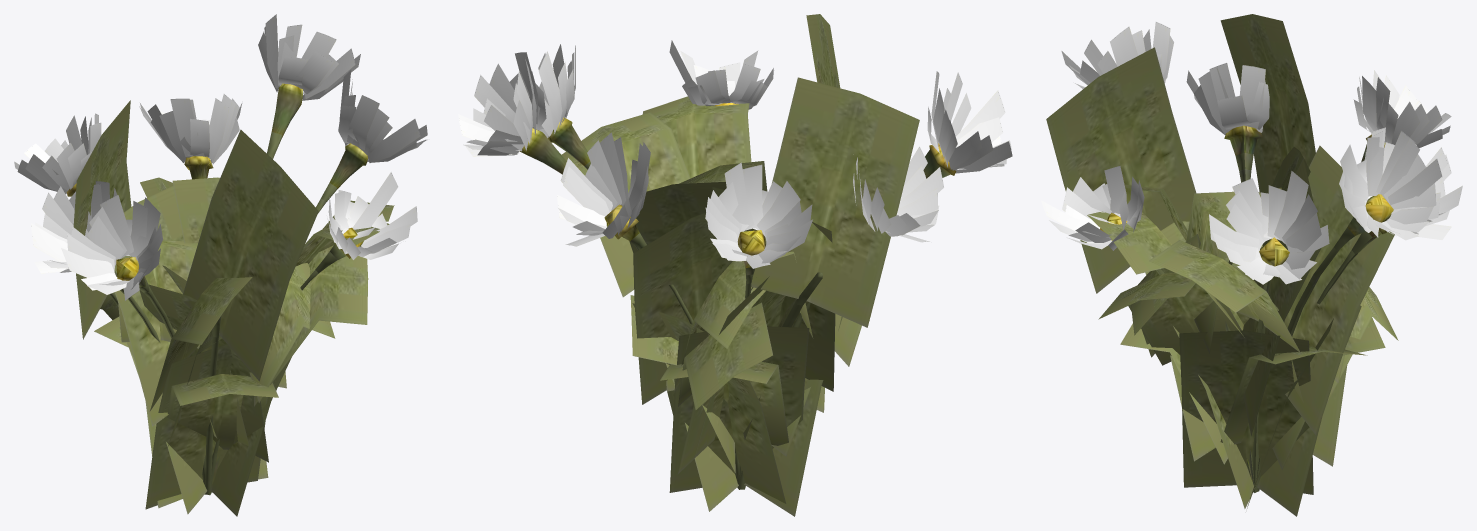
File: white_flower2.FBX
3 views of the same model, side by side, from view 1: azimuth 30°, elevation 25°; view 2: azimuth 150°, elevation 25°; view 3: azimuth 270°, elevation 25° (orthographic). The views are drawn at different scales.
Parts seen in each view (by area): view 1: Bonny_Cl; view 2: Bonny_Cl; view 3: Bonny_Cl.
Part boxes in pixels (left/top/right/bottom): Bonny_Cl: left=14, top=14, right=427, bottom=516; Bonny_Cl: left=458, top=14, right=1012, bottom=516; Bonny_Cl: left=1041, top=14, right=1462, bottom=516.
Size of the model in its own units: 0.334 by 0.3161 by 0.2717.
